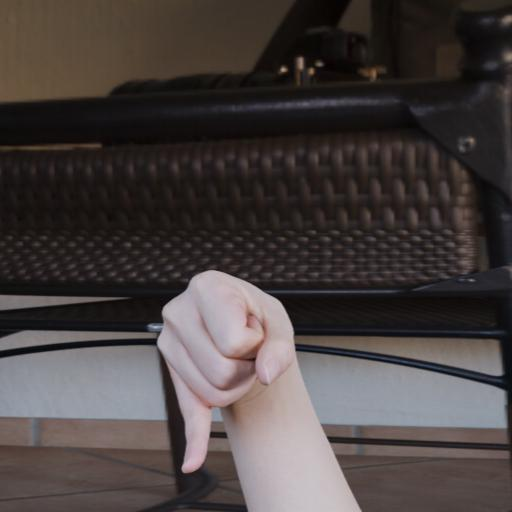J: (134, 253, 340, 479)
